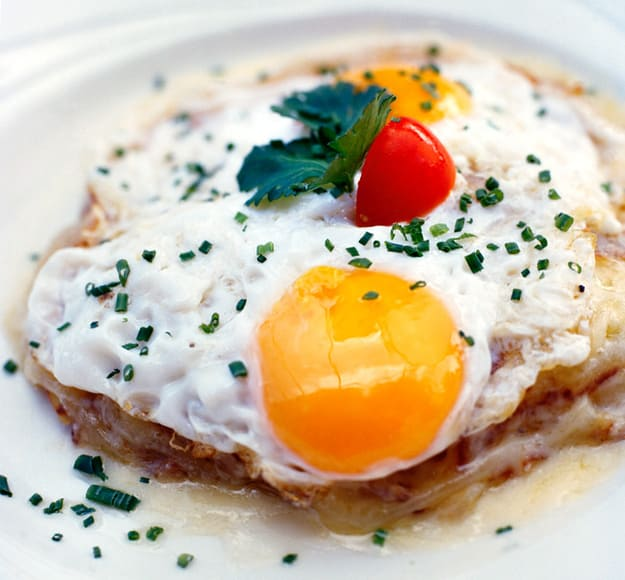fried egg: (153, 244, 507, 445)
